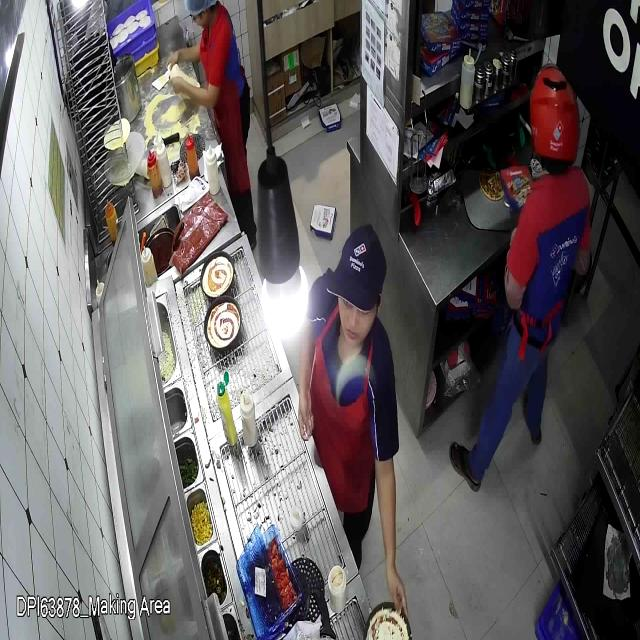helmet: (530, 63, 579, 175), (185, 1, 218, 29)
no_helmet: (327, 226, 385, 347)
